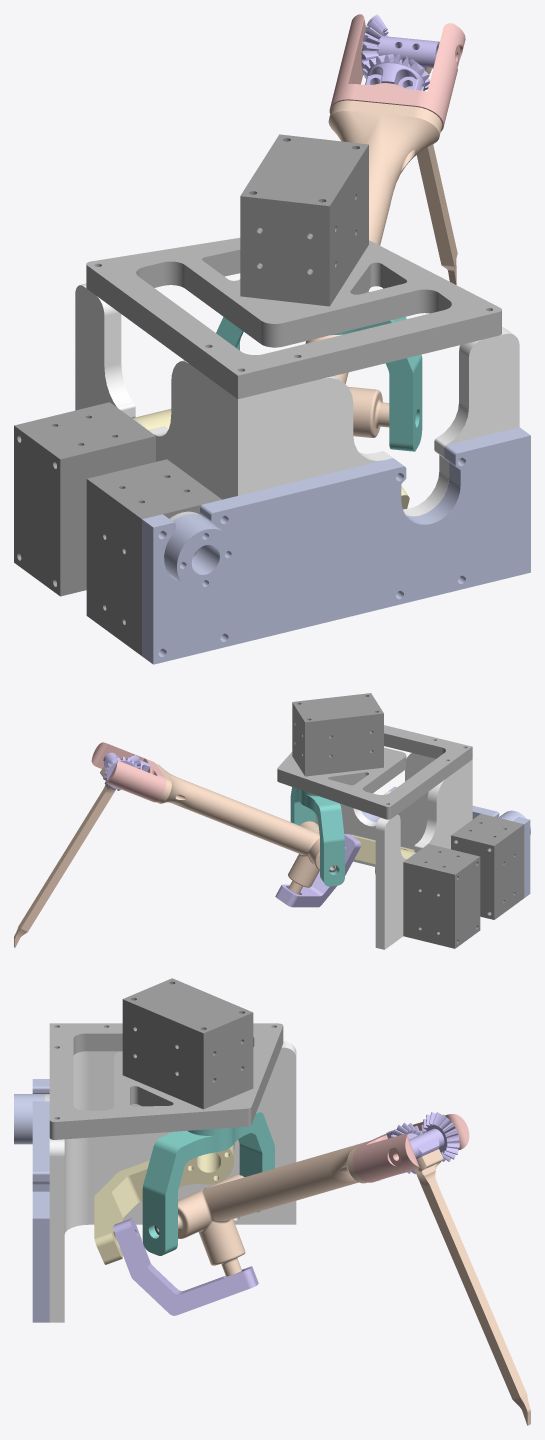
The picture shows the model from 3 angles, top to bottom: view 1: azimuth 30°, elevation 25°; view 2: azimuth 150°, elevation 25°; view 3: azimuth 270°, elevation 25°; orthographic projection. The views are drawn at different scales.
Parts seen in each view (by area): view 1: PRT - ServoHolderBracket-1, PRT - ServoHolderTop - LuLe-1, PRT - ServoHolder - LuLe-1, XL430-4, XL430-5, XL430-7, PRT - EndEffector - LuLe-2, PRT - Support Bracket - LuLe-2, PRT - Extension - LuLe-1, PRT - LinkX - LuLe-2, PRT - OutputLeg - LuLe-2, PRT - BevelGear - LuLe-5 (+1 smaller); view 2: PRT - ServoHolder - LuLe-1, PRT - ServoHolderTop - LuLe-1, XL430-5, XL430-4, PRT - EndEffector - LuLe-2, XL430-7, PRT - LinkX - LuLe-2, PRT - Support Bracket - LuLe-2, PRT - OutputLeg - LuLe-2, PRT - LinkZ - LuLe-5, PRT - ServoHolderBracket-1, PRT - LinkY - LuLe-4 (+1 smaller); view 3: PRT - ServoHolder - LuLe-1, XL430-4, PRT - ServoHolderTop - LuLe-1, PRT - EndEffector - LuLe-2, PRT - LinkX - LuLe-2, PRT - OutputLeg - LuLe-2, PRT - LinkY - LuLe-4, PRT - ServoHolderBracket-1, PRT - LinkZ - LuLe-5, PRT - Support Bracket - LuLe-2, PRT - BevelGear - LuLe-5, PRT - Extension - LuLe-1.
Boxes of the visible parts, left/top/right/bottom form: PRT - ServoHolderBracket-1: left=142, top=427, right=530, bottom=664; PRT - ServoHolderTop - LuLe-1: left=86, top=237, right=501, bottom=399; PRT - ServoHolder - LuLe-1: left=75, top=283, right=519, bottom=516; XL430-4: left=240, top=134, right=368, bottom=306; XL430-5: left=14, top=402, right=155, bottom=596; XL430-7: left=86, top=459, right=221, bottom=655; PRT - EndEffector - LuLe-2: left=305, top=100, right=442, bottom=437; PRT - Support Bracket - LuLe-2: left=329, top=14, right=465, bottom=131; PRT - Extension - LuLe-1: left=164, top=514, right=234, bottom=590; PRT - LinkX - LuLe-2: left=216, top=317, right=422, bottom=451; PRT - OutputLeg - LuLe-2: left=416, top=68, right=457, bottom=284; PRT - BevelGear - LuLe-5: left=361, top=14, right=439, bottom=78; PRT - ServoHolder - LuLe-1: left=315, top=753, right=472, bottom=949; PRT - ServoHolderTop - LuLe-1: left=277, top=725, right=472, bottom=819; XL430-5: left=403, top=844, right=480, bottom=948; XL430-4: left=292, top=693, right=383, bottom=776; PRT - EndEffector - LuLe-2: left=156, top=764, right=331, bottom=893; XL430-7: left=451, top=813, right=524, bottom=919; PRT - LinkX - LuLe-2: left=290, top=787, right=344, bottom=886; PRT - Support Bracket - LuLe-2: left=91, top=742, right=166, bottom=802; PRT - OutputLeg - LuLe-2: left=14, top=766, right=115, bottom=947; PRT - LinkZ - LuLe-5: left=275, top=834, right=360, bottom=907; PRT - ServoHolderBracket-1: left=361, top=786, right=530, bottom=897; PRT - LinkY - LuLe-4: left=350, top=834, right=415, bottom=874; PRT - ServoHolder - LuLe-1: left=49, top=1041, right=296, bottom=1322; XL430-4: left=122, top=978, right=253, bottom=1109; PRT - ServoHolderTop - LuLe-1: left=49, top=1023, right=283, bottom=1139; PRT - EndEffector - LuLe-2: left=178, top=1141, right=368, bottom=1276; PRT - LinkX - LuLe-2: left=142, top=1111, right=274, bottom=1255; PRT - OutputLeg - LuLe-2: left=414, top=1149, right=530, bottom=1425; PRT - LinkY - LuLe-4: left=94, top=1144, right=233, bottom=1264; PRT - ServoHolderBracket-1: left=32, top=1079, right=49, bottom=1322; PRT - LinkZ - LuLe-5: left=113, top=1218, right=258, bottom=1315; PRT - Support Bracket - LuLe-2: left=352, top=1114, right=469, bottom=1182; PRT - BevelGear - LuLe-5: left=409, top=1112, right=459, bottom=1161; PRT - Extension - LuLe-1: left=14, top=1094, right=44, bottom=1144.
Bounding box in the file's own units: 0.2235 × 0.1302 × 0.2096.
